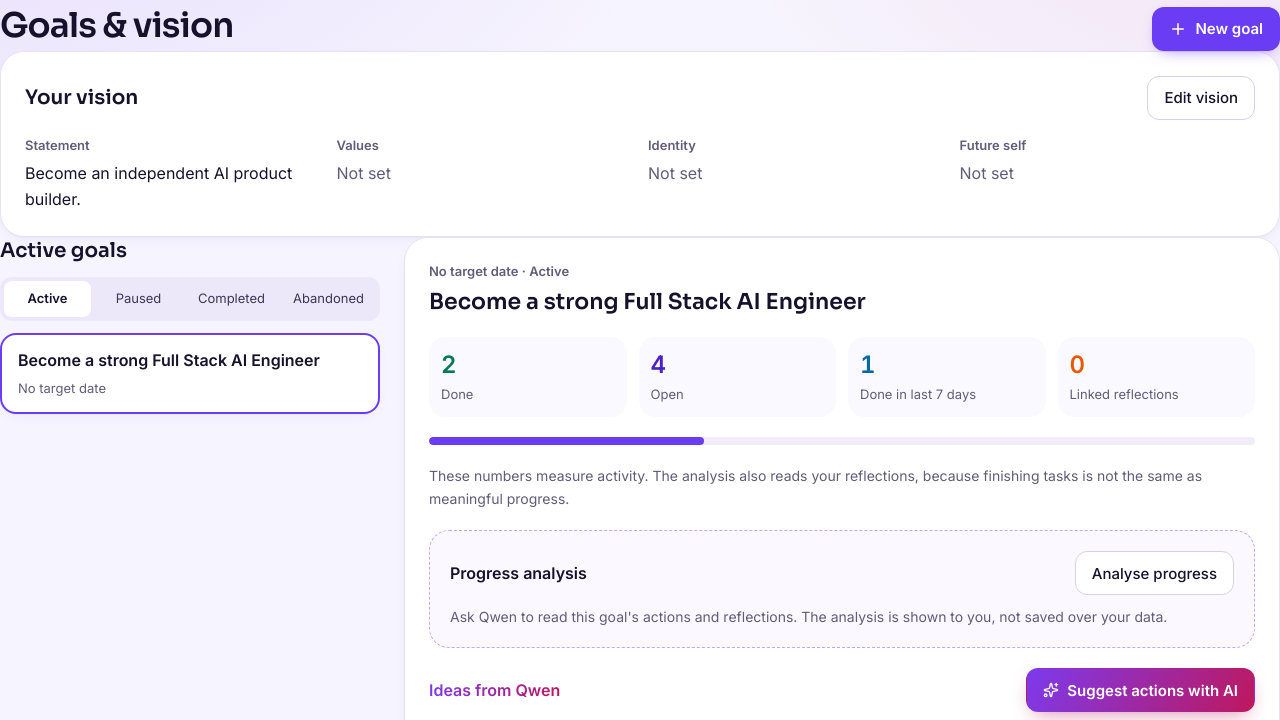
Test: Goals › asks Qwen for actions toward the selected goal
The width and height of the screenshot is (1280, 720).
Click the button "Suggest actions with AI" at (1141, 690), box [1026,668,1255,712]
(page scrolled)
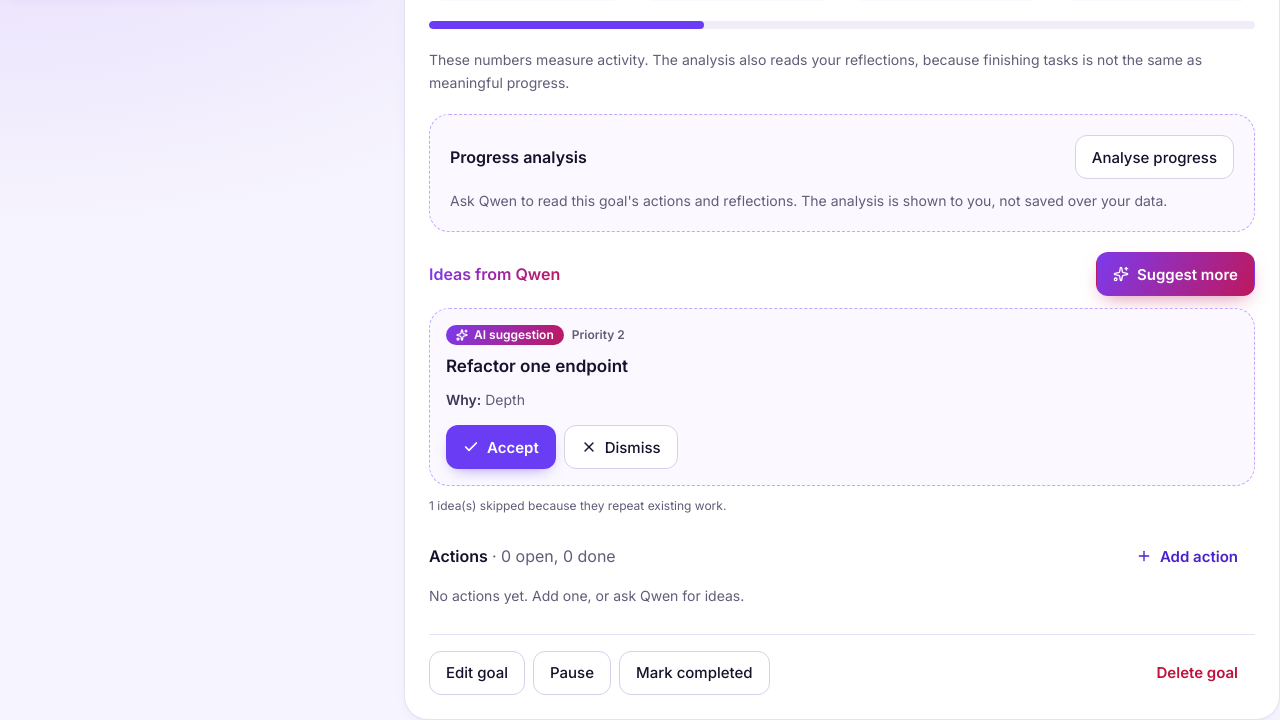
Check: the button with aria-label "Accept: Refactor one endpoint" is shown, box [446,425,556,469]
Check: the text "1 idea(s) skipped because they repeat existing work." is shown, box [429,498,726,513]
